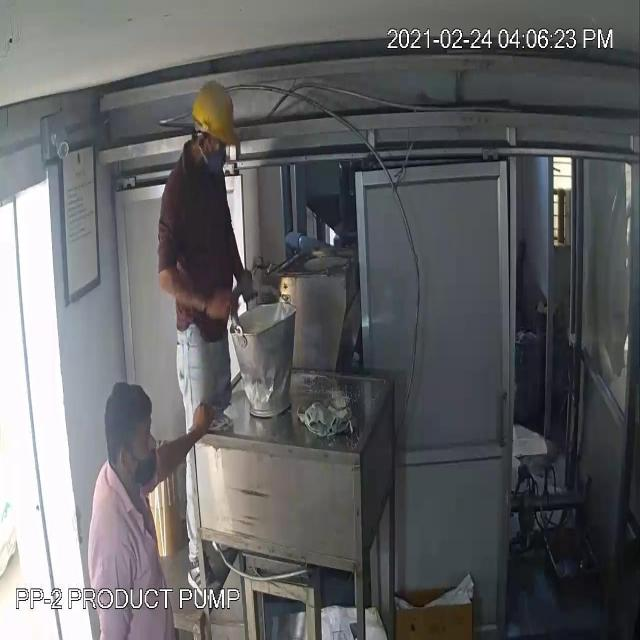helmet: (188, 74, 242, 152)
no-helmet: (100, 376, 154, 439)
